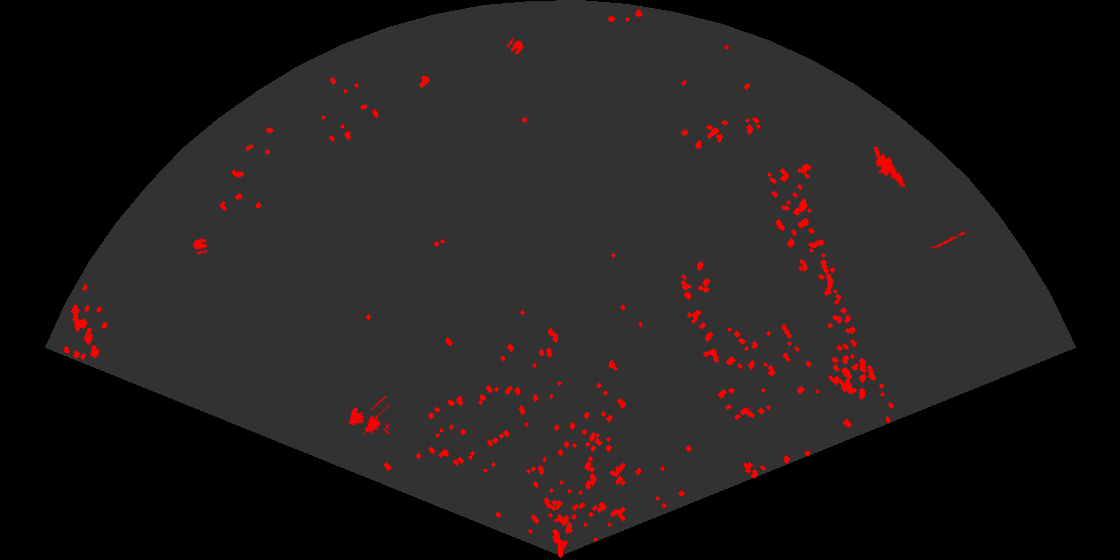ball: (505, 36, 525, 56), (191, 237, 209, 256)
cage: (347, 396, 389, 437)
chain: (929, 228, 967, 251)
frogman: (872, 147, 908, 194)
